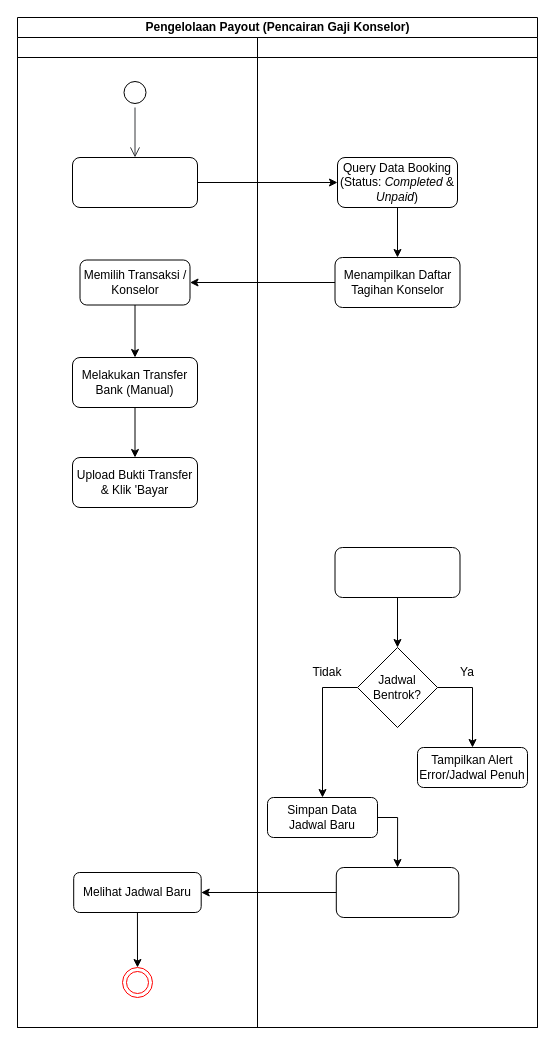
Some shapes in this 555 by 1045 pixel diagram are drawn without their labels. Here are the shapes that lost their labels. From the top down, the box of each, then its label:
(72, 156, 198, 208): Membuka Menu Laporan Keuangan
(16, 36, 258, 1028): Administrator
(256, 36, 538, 1028): Sistem
(334, 546, 460, 598): Cek Bentrok Jadwal di Database
(335, 866, 459, 918): Update Tampilan Kalender (Slot Bertambah)
